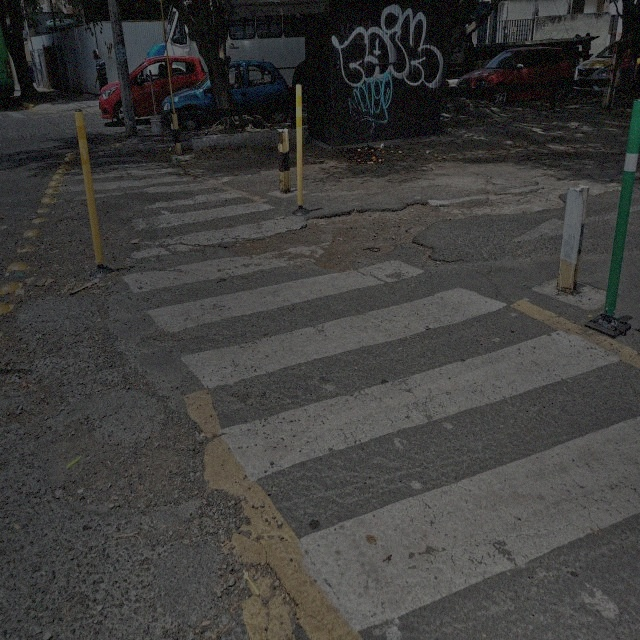pothole: (263, 200, 442, 278), (409, 240, 443, 270)
